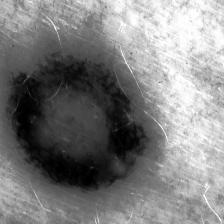Benign Marking or Mole: (2, 38, 158, 193)
